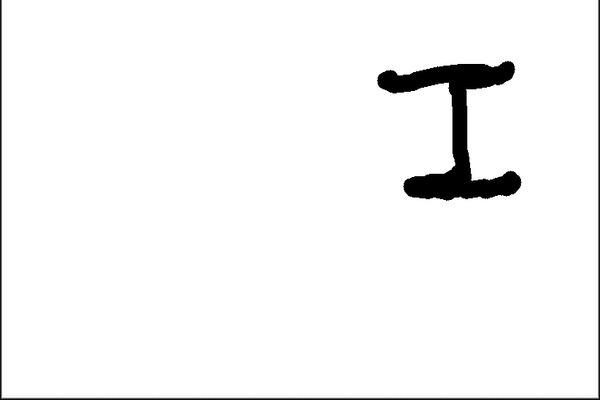i: (373, 58, 535, 209)
